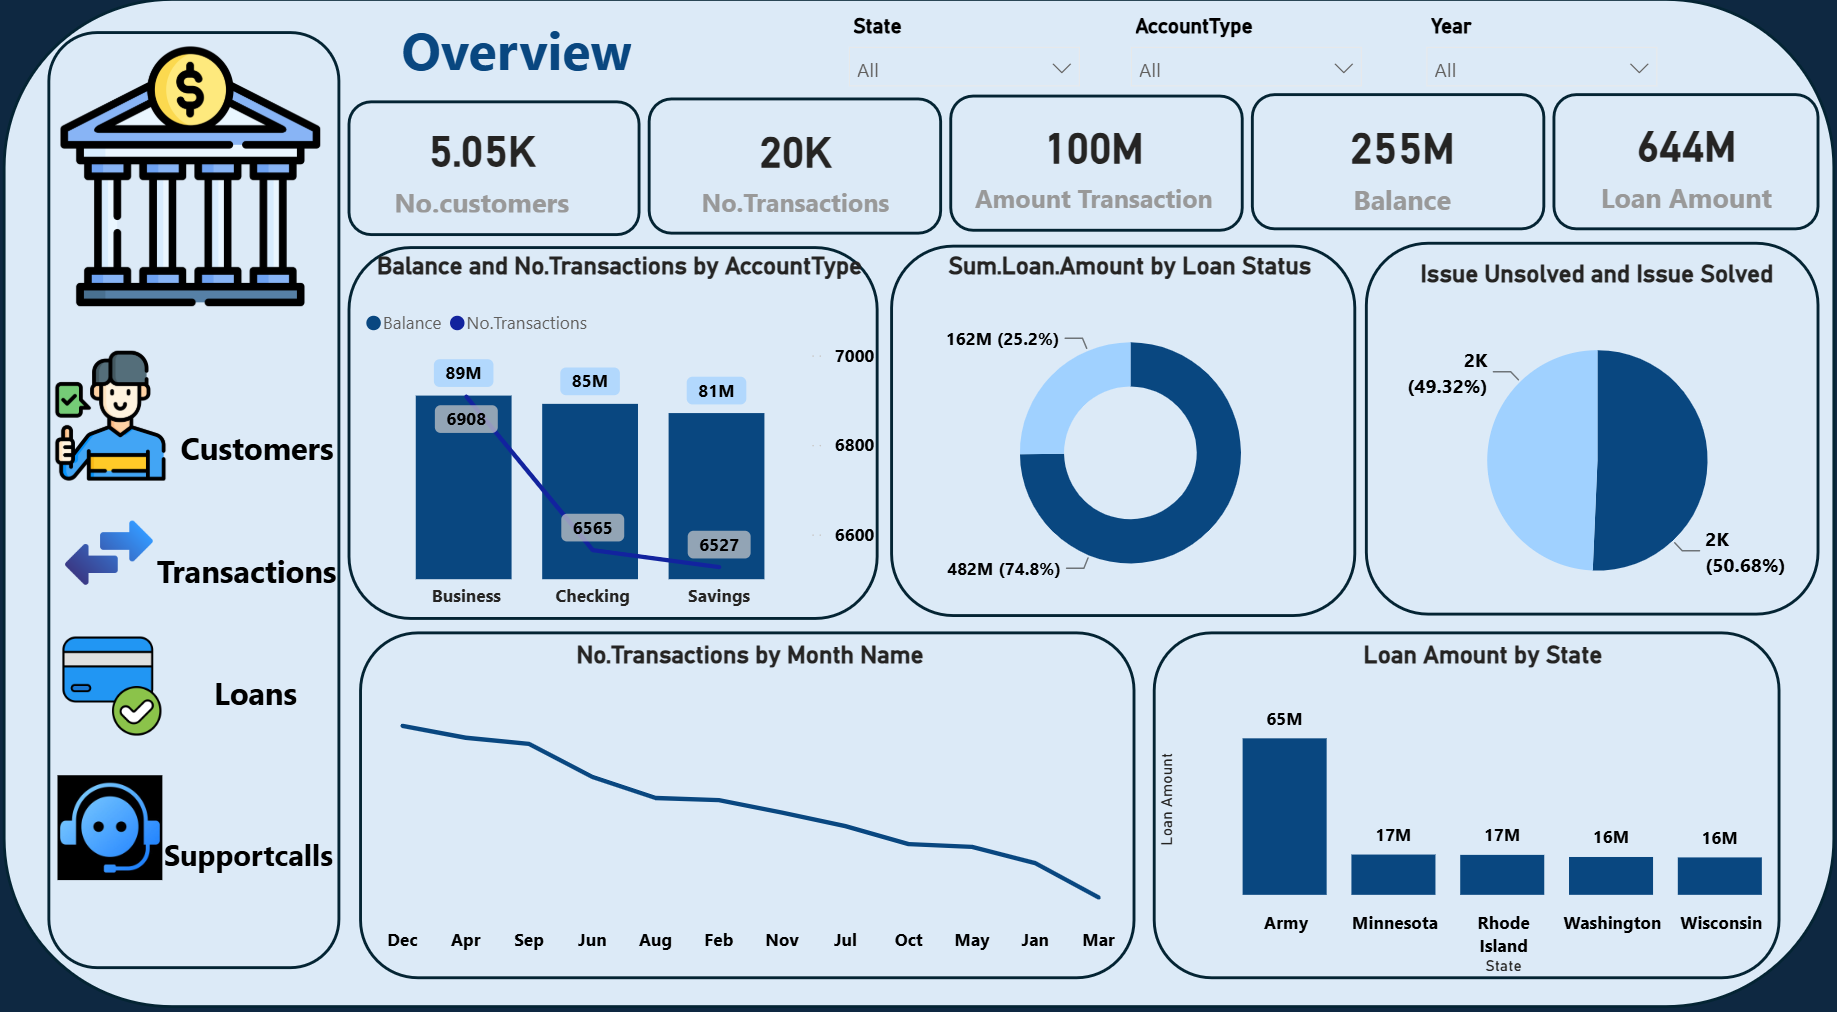

Layout of this report page (visuals, bound fields, positions):
{"tool":"powerbi","page":{"name":"Overview","canvas":[1280,720],"ordinal":0},"visuals":[{"type":"card","fields":{"Values":["Calculation Overview.No.customers"]},"box":[258.6,86.6,154.9,75.2],"z":0},{"type":"card","fields":{"Values":["Calculation Overview.No.Transactions"]},"box":[475,86.6,157.2,75.2],"z":1000},{"type":"slicer","fields":{"Values":["Calender.Year"]},"box":[980.8,13.7,180,59.2],"z":2000},{"type":"card","fields":{"Values":["Calculation Overview.Amount Transaction"]},"box":[665.3,84.3,190.2,74],"z":3000},{"type":"card","fields":{"Values":["Calculation Overview.Balance"]},"box":[877.1,82,193.7,79.7],"z":4000},{"type":"card","fields":{"Values":["Calculation Overview.Loan Amount"]},"box":[1081,82,180,76.3],"z":5000},{"type":"lineClusteredColumnComboChart","fields":{"Y":["Calculation Overview.Balance"],"Category":["Accounts.AccountType"],"Y2":["Calculation Overview.No.Transactions"]},"box":[250.6,183.4,363.4,257.4],"z":6000},{"type":"donutChart","title":"Sum.Loan.Amount by Loan Status","fields":{"Category":["Loans.Loan Status"],"Y":["Sum(Loans.LoanAmount)"]},"box":[632.2,183.4,307.6,249.5],"z":7000},{"type":"lineChart","fields":{"Category":["Calender.Month Name"],"Y":["Calculation Overview.No.Transactions"]},"box":[258.6,452.2,527.4,226.7],"z":8000},{"type":"clusteredColumnChart","fields":{"Y":["Calculation Overview.Loan Amount"],"Category":["customers.State"]},"box":[800.8,452.2,460.2,236.9],"z":9000},{"type":"pieChart","fields":{"Y":["Customers Service.Issue No. Solved","Customers Service.Issue Solved"]},"box":[956.9,188,304.1,249.5],"z":10000},{"type":"slicer","fields":{"Values":["Accounts.AccountType"]},"box":[776.9,13.7,180,59.2],"z":11000},{"type":"slicer","fields":{"Values":["customers.State"]},"box":[581,13.7,180,59.2],"z":12000},{"type":"image","box":[44.4,41,180,181.1],"z":13000},{"type":"shape","box":[246.1,13.7,229,59.2],"z":14000},{"type":"image","box":[34.2,247.2,90,99.1],"z":15000},{"type":"image","box":[35.3,450,90,68.3],"z":16000},{"type":"image","box":[42.1,541.1,72.9,82],"z":17000},{"type":"image","box":[33,360,90,64.9],"z":18000},{"type":"shape","box":[115.1,297.3,131,43.3],"z":19000},{"type":"shape","box":[108.2,382.8,131,43.3],"z":20000},{"type":"shape","box":[113.9,467,131,43.3],"z":21000},{"type":"shape","box":[105.9,579.8,137.8,43.3],"z":22000}]}

Visuals, with their boxes in screenshot pixels (x1, y1, x2, y2), scaled from the page's 1280x720 canvas onto the 1837x1012 screenshot:
card - Calculation Overview.No.customers: (371, 122, 593, 227)
card - Calculation Overview.No.Transactions: (682, 122, 907, 227)
slicer - Calender.Year: (1408, 19, 1666, 102)
card - Calculation Overview.Amount Transaction: (955, 118, 1228, 222)
card - Calculation Overview.Balance: (1259, 115, 1537, 227)
card - Calculation Overview.Loan Amount: (1551, 115, 1810, 222)
lineClusteredColumnComboChart - Calculation Overview.Balance x Accounts.AccountType: (360, 258, 881, 620)
"Sum.Loan.Amount by Loan Status" donutChart: (907, 258, 1349, 608)
lineChart - Calender.Month Name x Calculation Overview.No.Transactions: (371, 636, 1128, 954)
clusteredColumnChart - Calculation Overview.Loan Amount x customers.State: (1149, 636, 1810, 969)
pieChart - Customers Service.Issue No. Solved x Customers Service.Issue Solved: (1373, 264, 1810, 615)
slicer - Accounts.AccountType: (1115, 19, 1373, 102)
slicer - customers.State: (834, 19, 1092, 102)
image: (64, 58, 322, 312)
shape: (353, 19, 682, 102)
image: (49, 347, 178, 487)
image: (51, 632, 180, 728)
image: (60, 761, 165, 876)
image: (47, 506, 177, 597)
shape: (165, 418, 353, 479)
shape: (155, 538, 343, 599)
shape: (163, 656, 351, 717)
shape: (152, 815, 350, 876)
